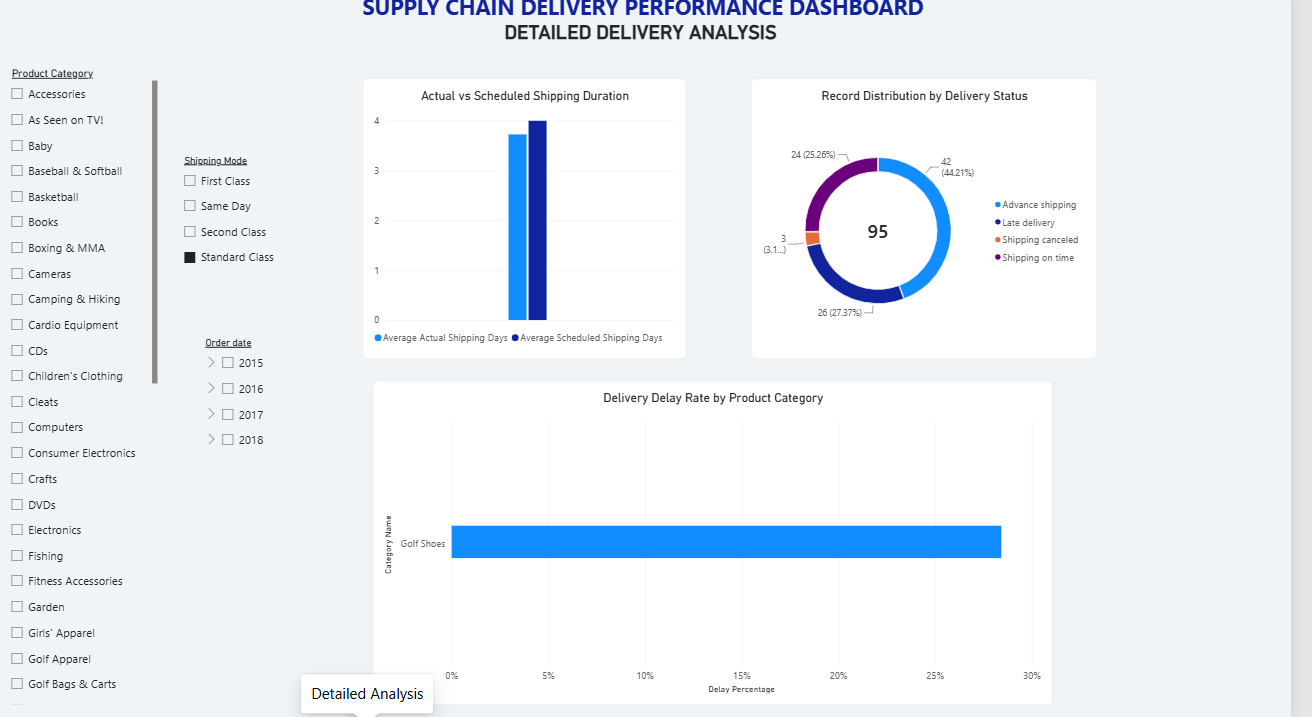

This screenshot's page, from the dashboard's own definition file:
{"tool":"powerbi","page":{"name":"Detailed Analysis ","canvas":[1920,1080],"ordinal":1},"visuals":[{"type":"donutChart","title":"Record Distribution by Delivery Status","fields":{"Series":["Supply_Chain_Cleaned_Data.Delivery Status"],"Y":["CountNonNull(Supply_Chain_Cleaned_Data.Order Id)"]},"box":[1200,128,608,432],"z":0},{"type":"clusteredBarChart","title":"Delivery Delay Rate by Product Category","fields":{"Category":["Supply_Chain_Cleaned_Data.Category Name"],"Y":["Supply_Chain_Cleaned_Data.Delay Percentage"]},"box":[560,576,1008,480],"z":1000},{"type":"textbox","box":[0,0,1920,96],"z":2000},{"type":"clusteredColumnChart","title":"Actual vs Scheduled Shipping Duration","fields":{"Y":["Supply_Chain_Cleaned_Data.Average Actual Shipping Days","Supply_Chain_Cleaned_Data.Average Scheduled Shipping Days"]},"box":[544,128,624,432],"z":3000},{"type":"slicer","fields":{"Values":["Supply_Chain_Cleaned_Data.Shipping Mode"]},"box":[272,240,240,208],"z":4000},{"type":"slicer","fields":{"Values":["Supply_Chain_Cleaned_Data.Category Name"]},"box":[16,112,224,944],"z":5000},{"type":"slicer","fields":{"Values":["Supply_Chain_Cleaned_Data.order date.Variation.Date Hierarchy.Year","Supply_Chain_Cleaned_Data.order date.Variation.Date Hierarchy.Quarter","Supply_Chain_Cleaned_Data.order date.Variation.Date Hierarchy.Month","Supply_Chain_Cleaned_Data.order date.Variation.Date Hierarchy.Day"]},"box":[304,512,192,240],"z":6000}]}

Visuals, with their boxes on the page's 1920x1080 design canvas (x1, y1, x2, y2). These are canvas units, not pixel positions in the 1312x717 screenshot, which may show the page scaled, cropped or inside an application window:
"Record Distribution by Delivery Status" donutChart: x1=1200 y1=128 x2=1808 y2=560
"Delivery Delay Rate by Product Category" clusteredBarChart: x1=560 y1=576 x2=1568 y2=1056
textbox: x1=0 y1=0 x2=1920 y2=96
"Actual vs Scheduled Shipping Duration" clusteredColumnChart: x1=544 y1=128 x2=1168 y2=560
slicer - Supply_Chain_Cleaned_Data.Shipping Mode: x1=272 y1=240 x2=512 y2=448
slicer - Supply_Chain_Cleaned_Data.Category Name: x1=16 y1=112 x2=240 y2=1056
slicer - Supply_Chain_Cleaned_Data.order date.Variation.Date Hierarchy.Year x Supply_Chain_Cleaned_Data.order date.Variation.Date Hierarchy.Quarter: x1=304 y1=512 x2=496 y2=752
